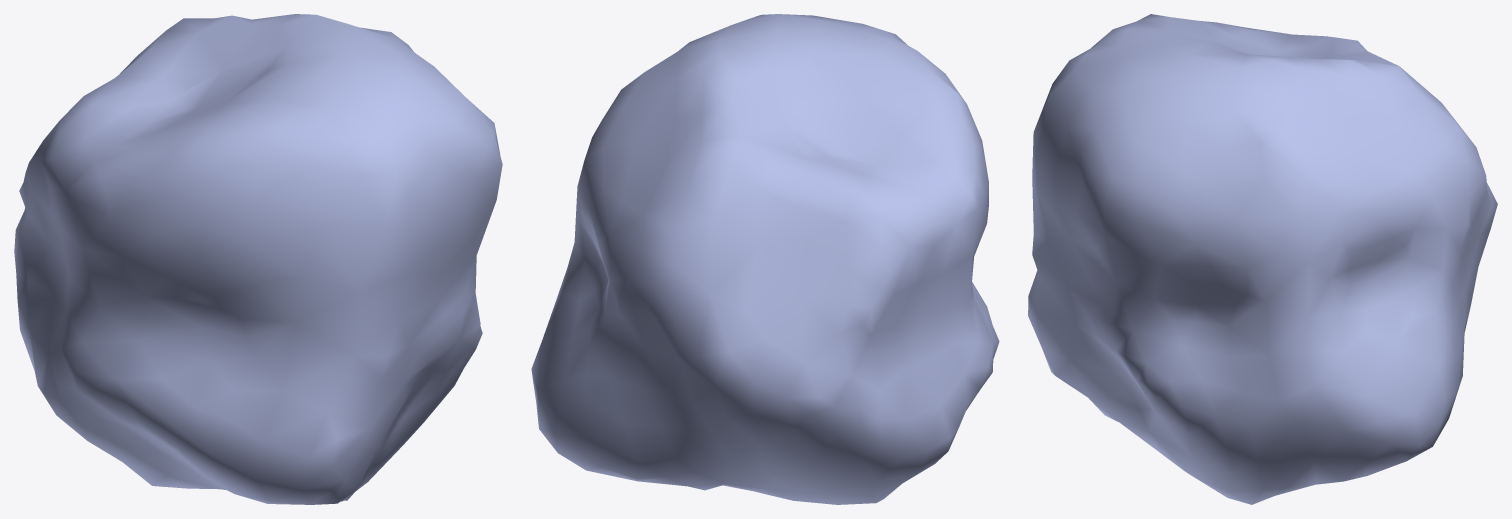
The model's file is asteroid.gltf.
The picture shows the model from 3 angles, left to right: view 1: azimuth 30°, elevation 25°; view 2: azimuth 150°, elevation 25°; view 3: azimuth 270°, elevation 25°; orthographic projection. The views are drawn at different scales.
Visible parts, largest first — view 1: Cube; view 2: Cube; view 3: Cube.
Part boxes in pixels (bbox=[...]): Cube: bbox=[14, 14, 502, 504]; Cube: bbox=[531, 14, 999, 504]; Cube: bbox=[1028, 14, 1497, 504].
Size of the model in its own units: 2.89 by 3.08 by 3.06.
